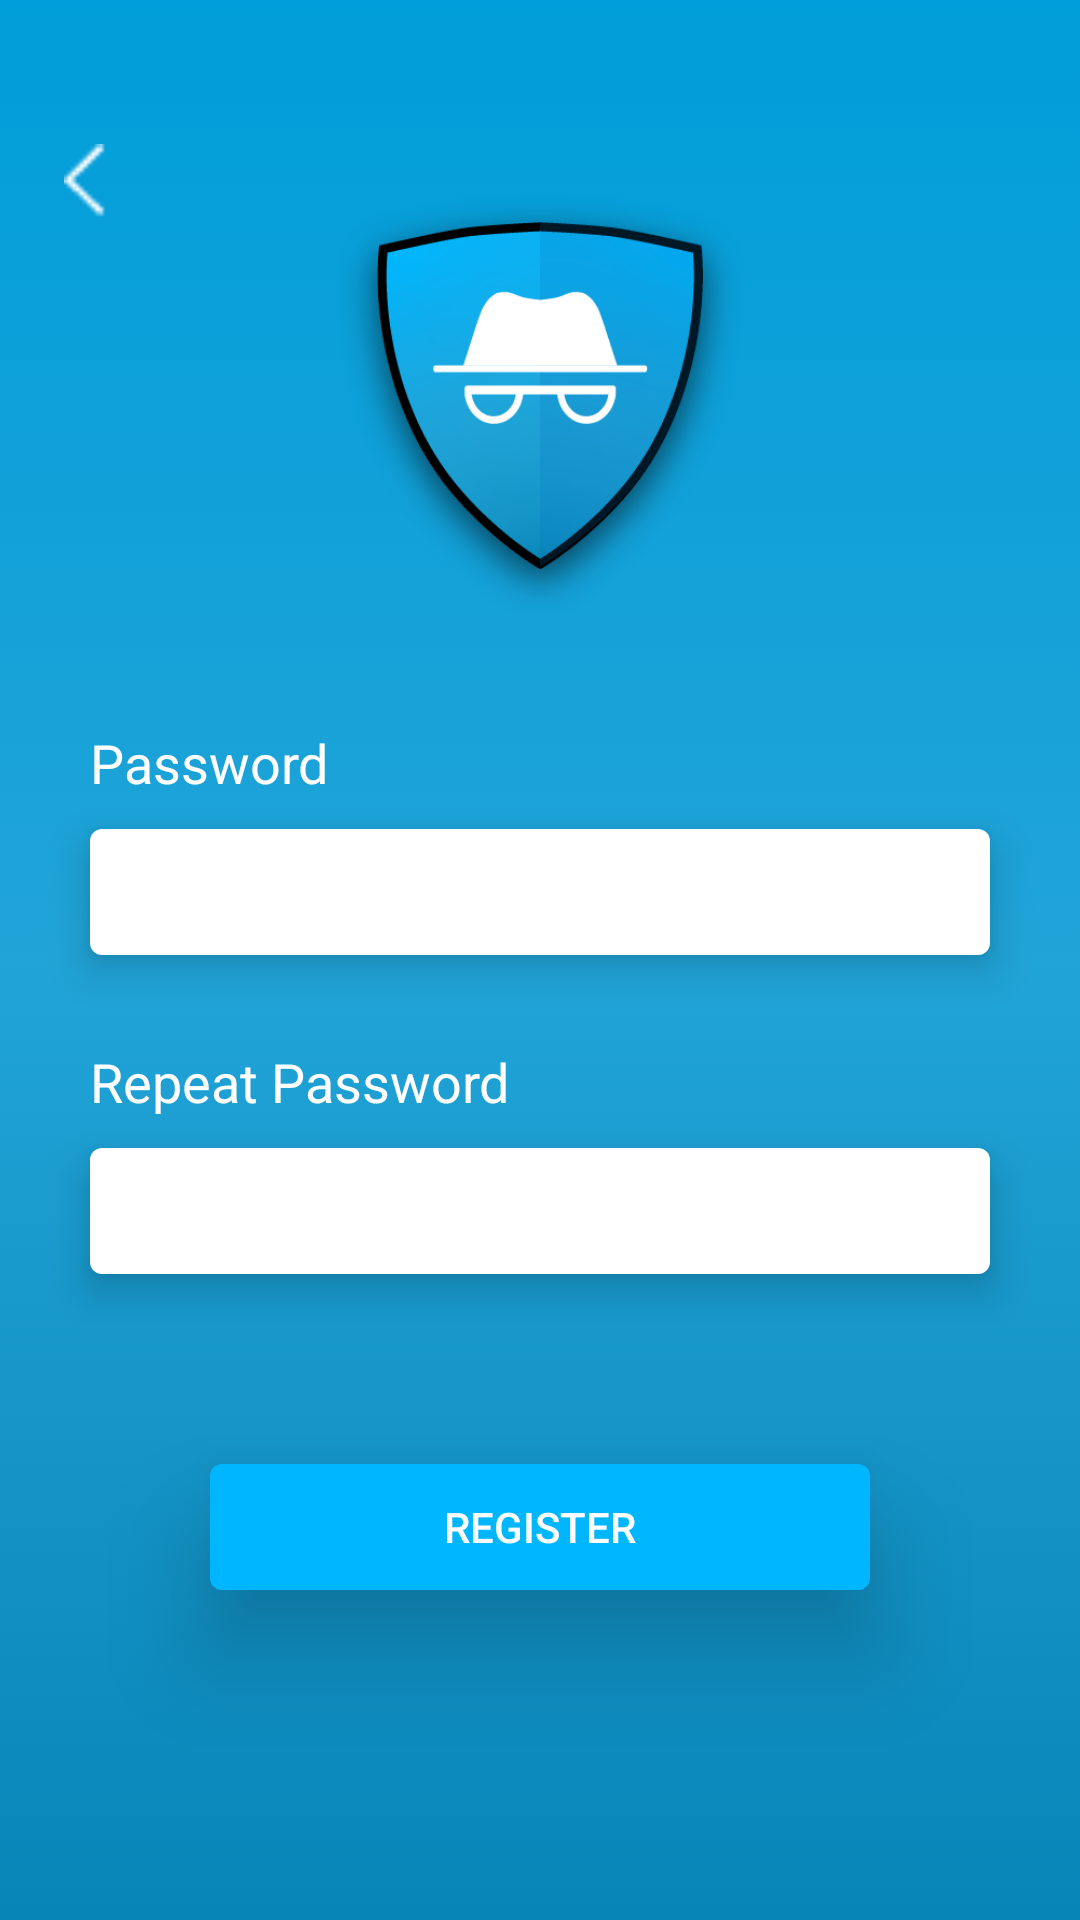

Point at icon controls on the screen. Image size 1080px×1920px, points as [x,y].
back: [84,180]
